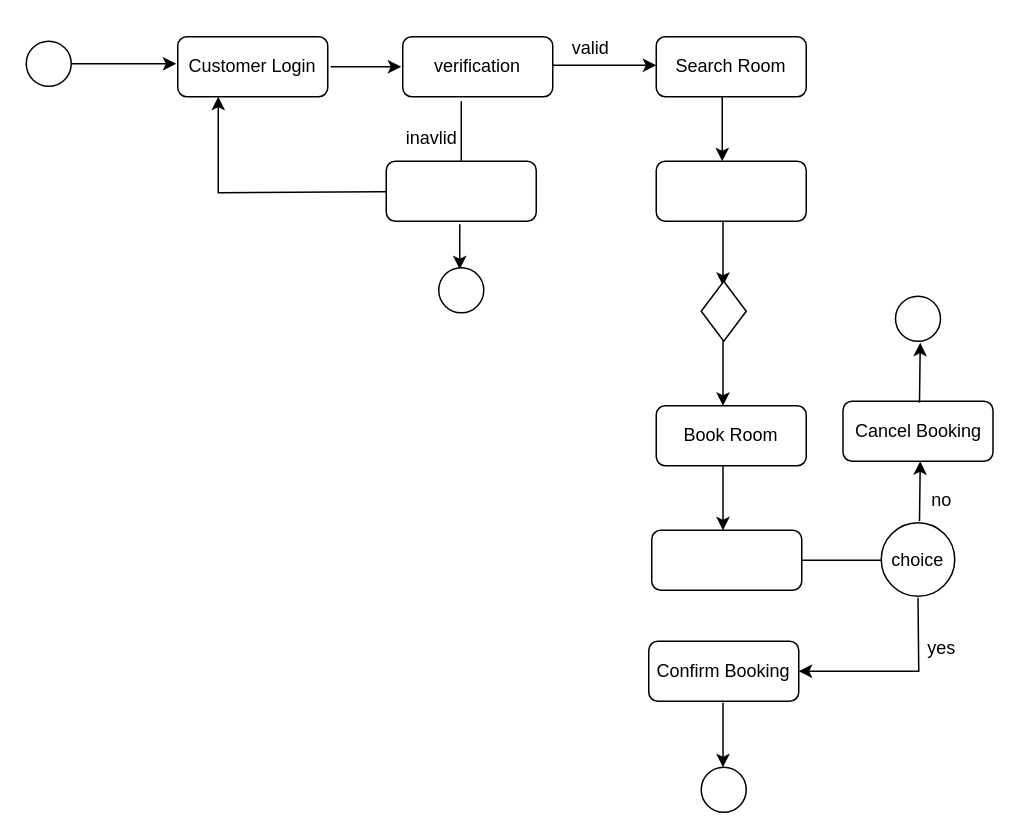
This 1020x839 diagram has some shape labels left out. Here are the shapes that lost their labels. From the top down, the centre of each, then its label:
At [460,190]: "Re-login".
At [730,190]: "Check Availability".
At [726,559]: "Edit Booking".
